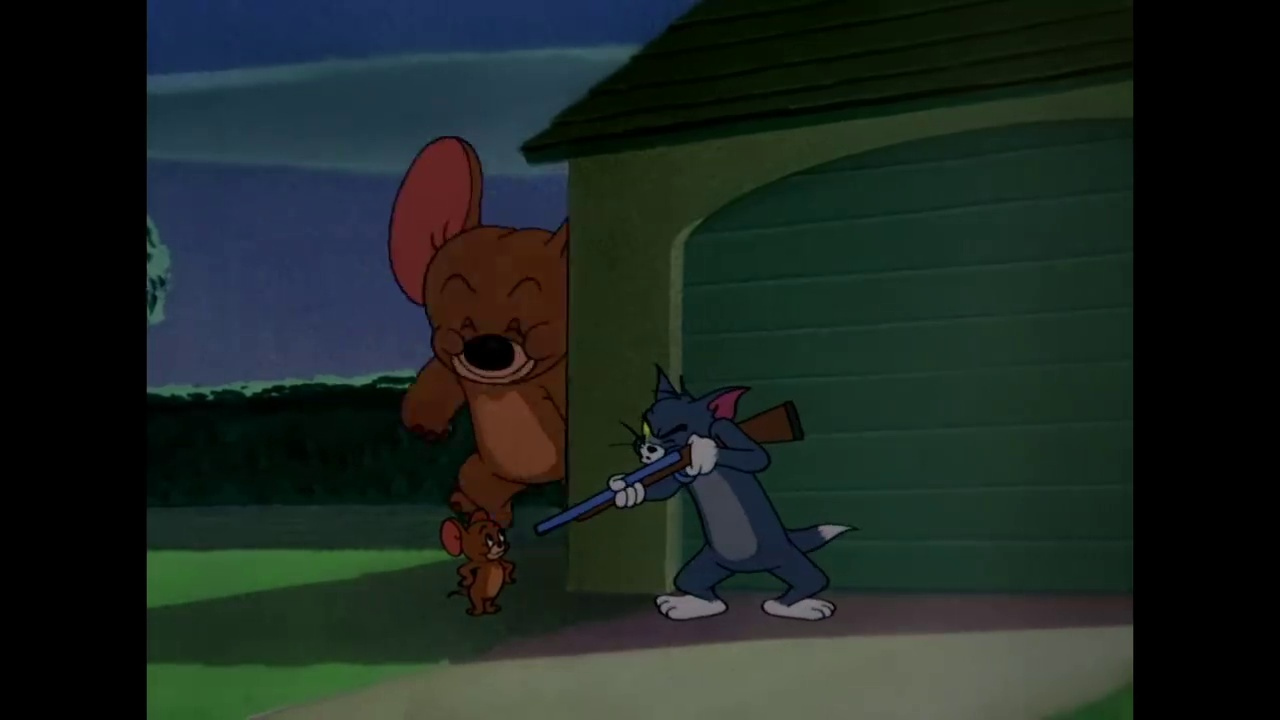tom: (614, 357, 752, 472)
